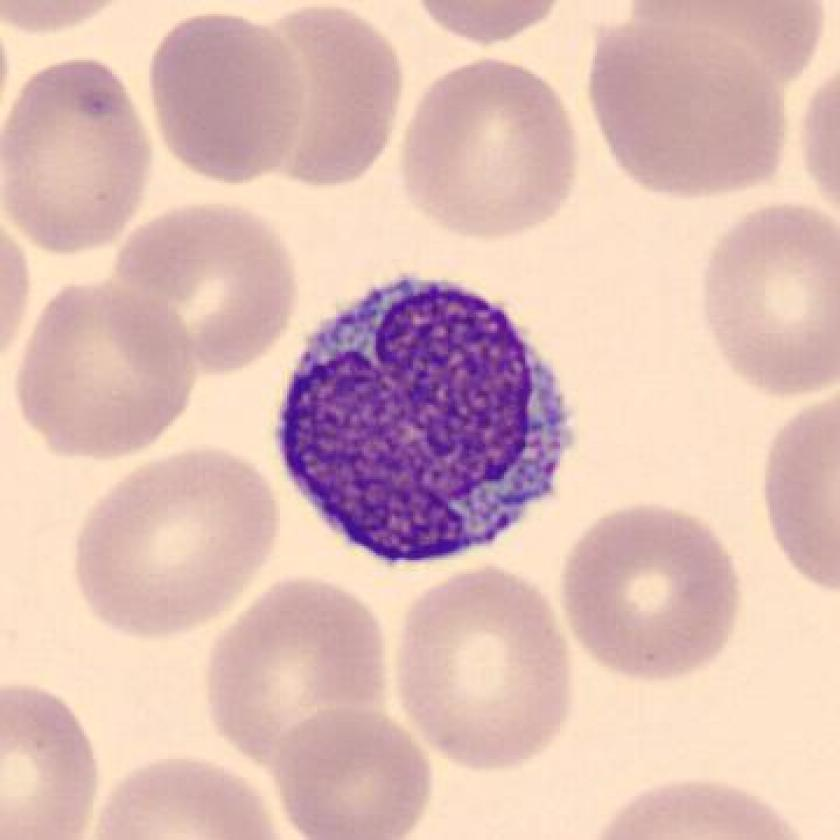monocyte: (255, 254, 594, 601)
